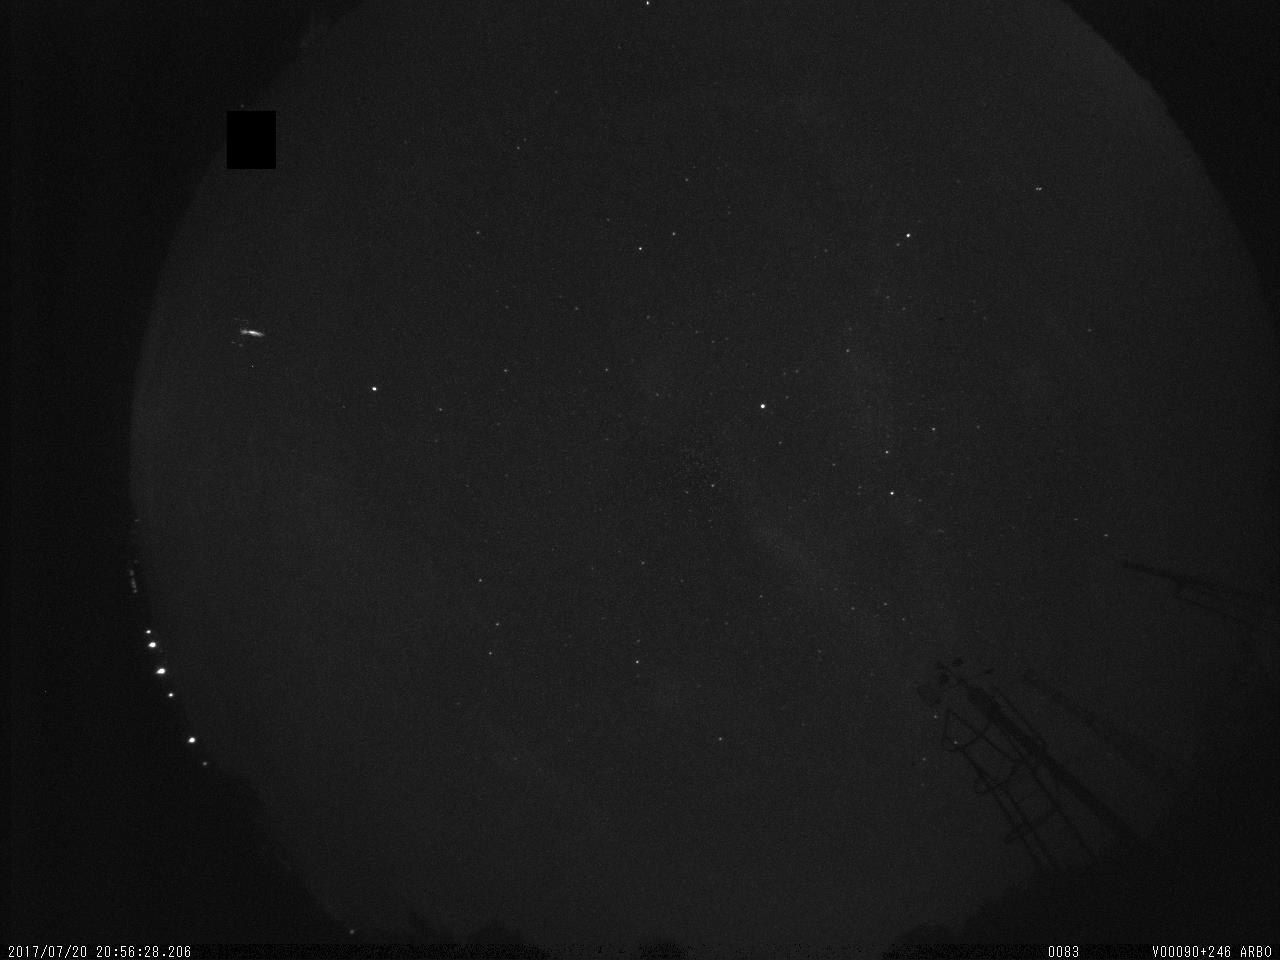TLE: (226, 310, 273, 363)
